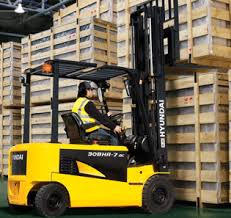Pallet Jack: (5, 1, 226, 215)
